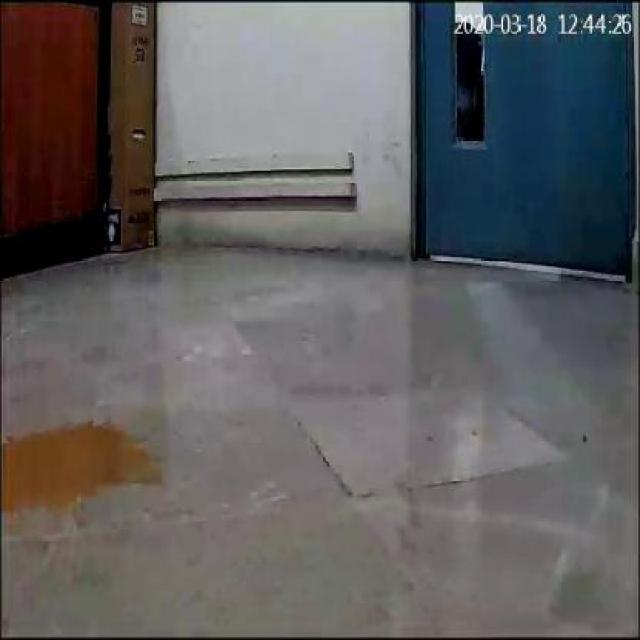spill: (6, 418, 162, 506)
